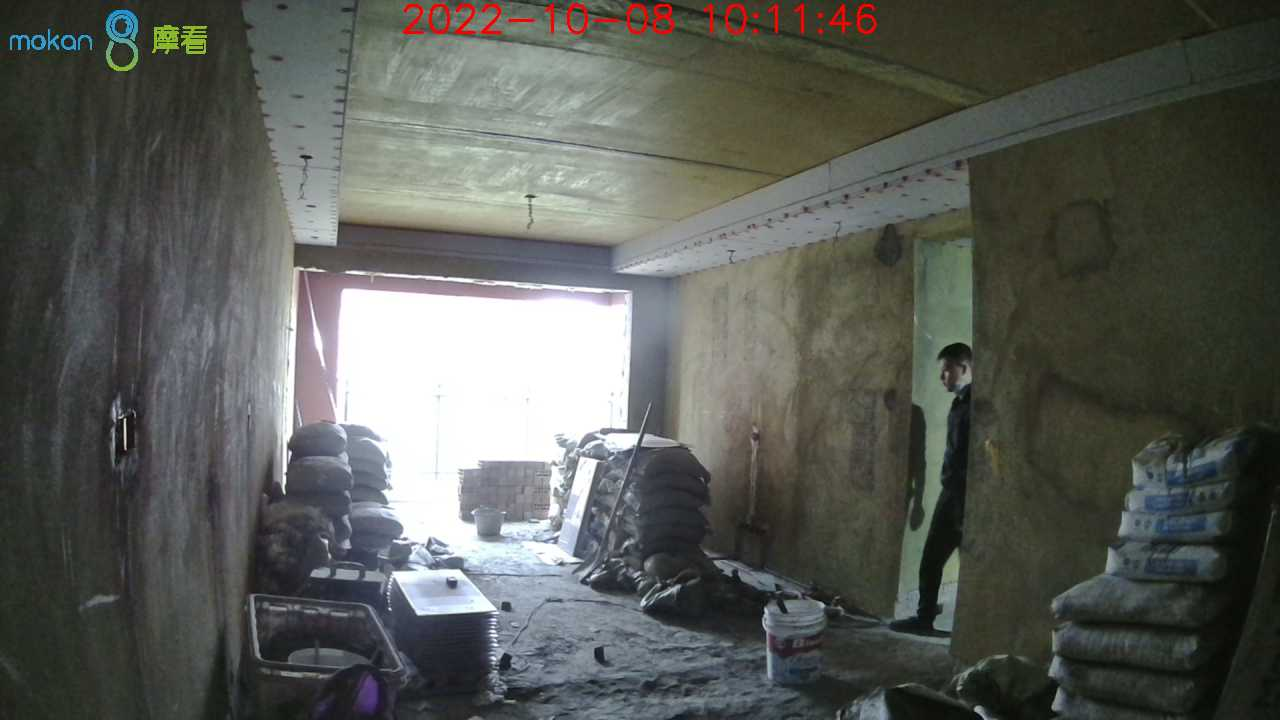people: (888, 343, 975, 629)
window: (337, 286, 629, 460)
